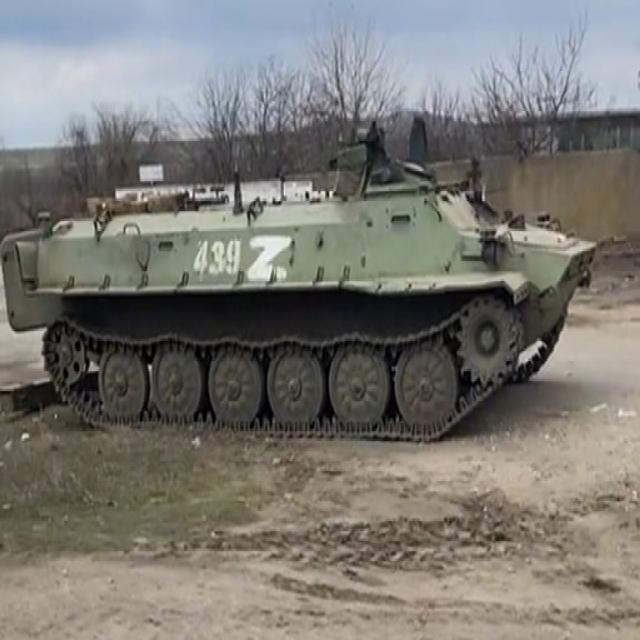APC-IFV: (5, 106, 595, 498)
